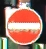No entry: (5, 6, 41, 44)
